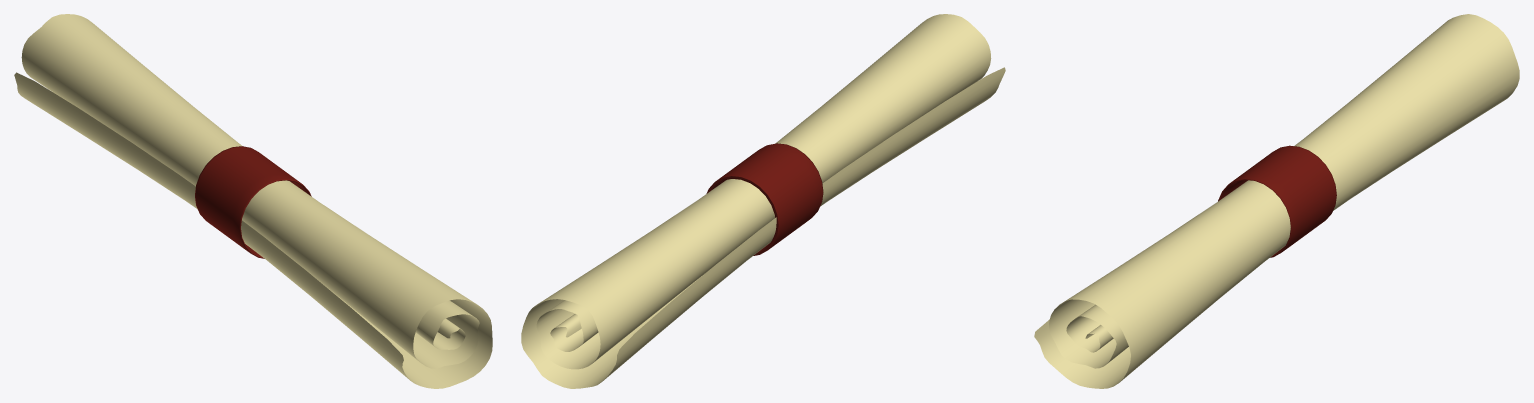
Rendered from Map.fbx.
3 views of the same model, side by side, from view 1: azimuth 30°, elevation 25°; view 2: azimuth 150°, elevation 25°; view 3: azimuth 330°, elevation 25° (orthographic).
Visible parts, largest first — view 1: Map; view 2: Map; view 3: Map.
Boxes of the visible parts, x1,y1,x2,y2 form: Map: (14, 14, 492, 388); Map: (521, 14, 1005, 388); Map: (1034, 14, 1519, 388).
Size of the model in its own units: 12.27 by 11.05 by 90.46.
